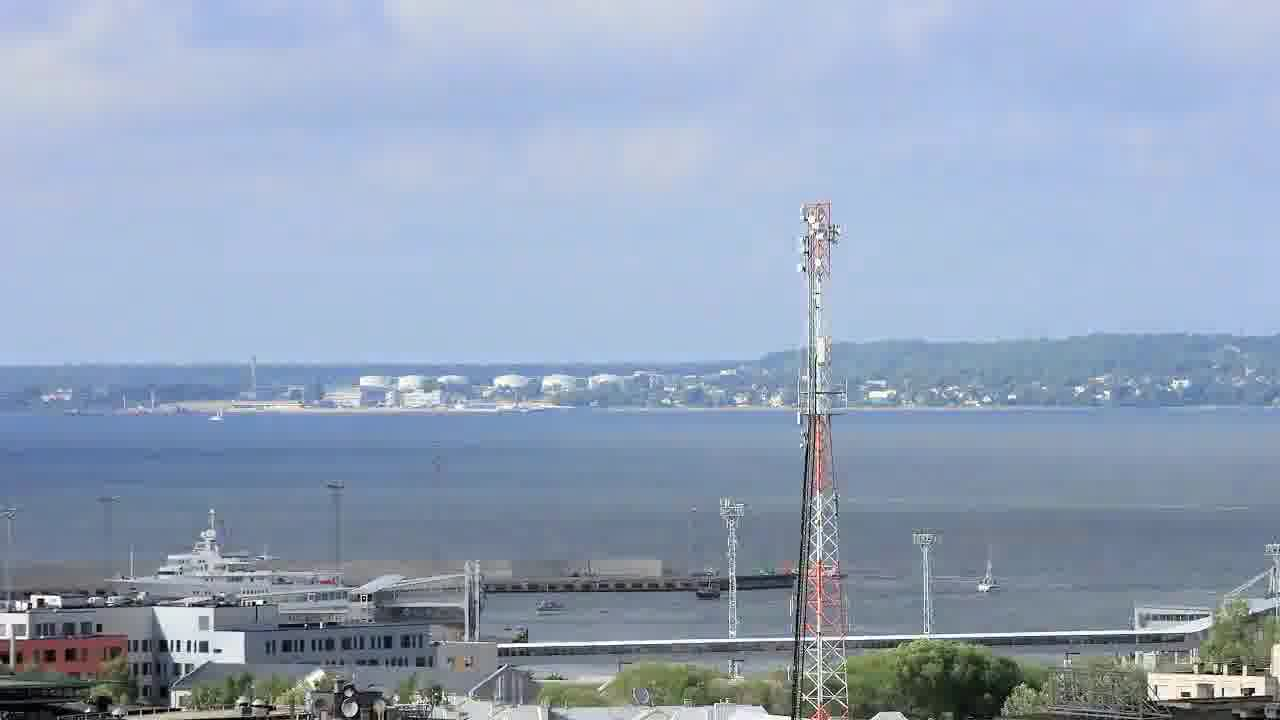type-0: (796, 553, 855, 590), (970, 560, 1015, 605), (677, 569, 727, 606), (525, 586, 567, 623)
type-3: (97, 515, 374, 605)
